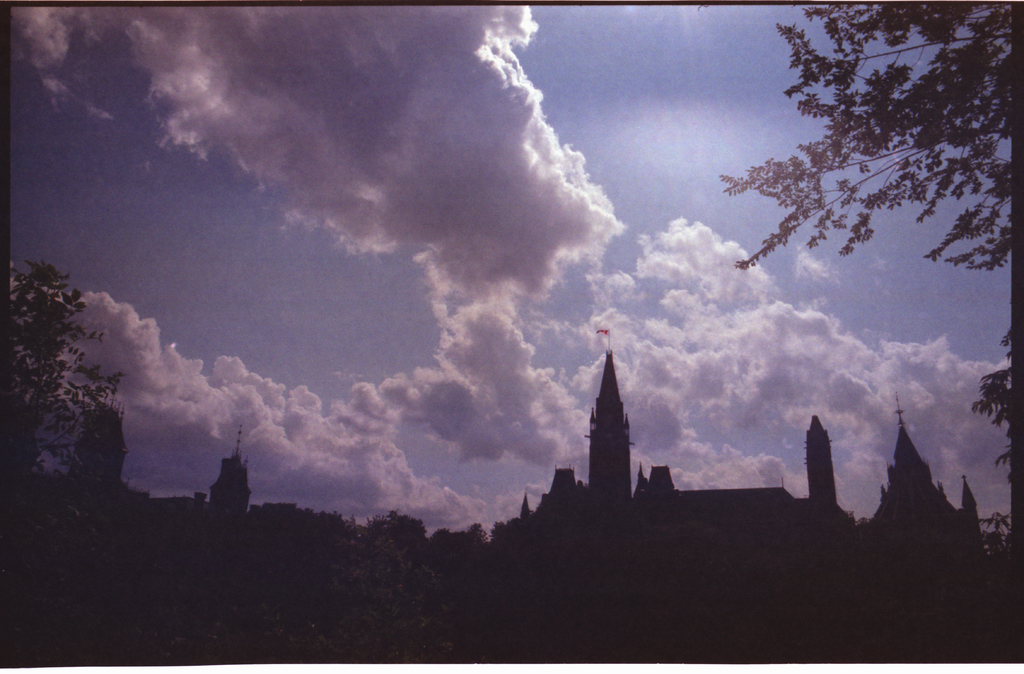Tree: (709, 4, 1020, 554), (246, 497, 503, 613), (5, 246, 125, 463), (70, 402, 135, 497)
